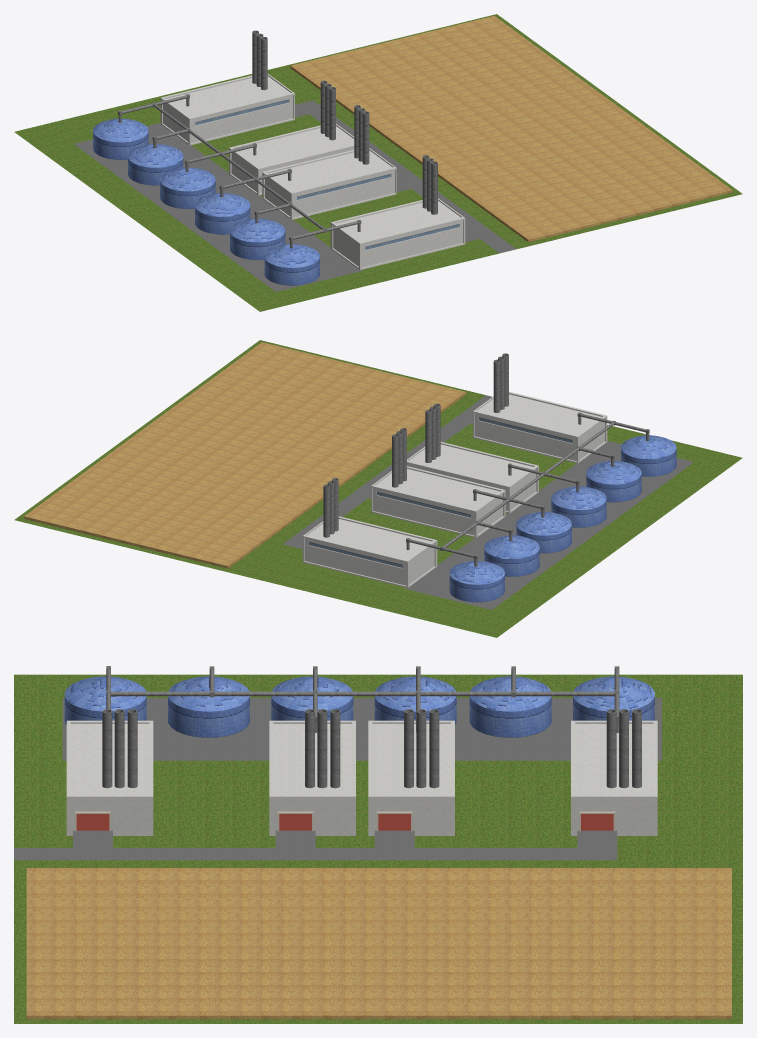
File: Biogaskraftwerk_Tech3.fbx
3 views of the same model, one above another, from view 1: azimuth 30°, elevation 25°; view 2: azimuth 150°, elevation 25°; view 3: azimuth 270°, elevation 25° (orthographic). The views are drawn at different scales.
Parts seen in each view (by area): view 1: bio_tech_3_1; view 2: bio_tech_3_1; view 3: bio_tech_3_1.
Boxes of the visible parts, x1,y1,x2,y2 form: bio_tech_3_1: (14, 14, 742, 311); bio_tech_3_1: (14, 340, 742, 637); bio_tech_3_1: (14, 666, 742, 1023).
Size of the model in its own units: 200 by 30 by 176.
